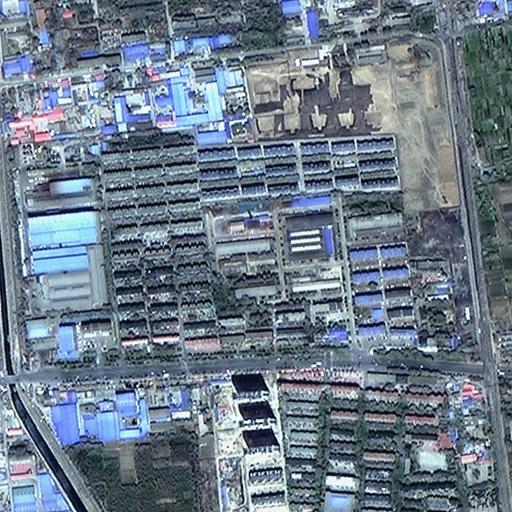school: (208, 209, 286, 301)
